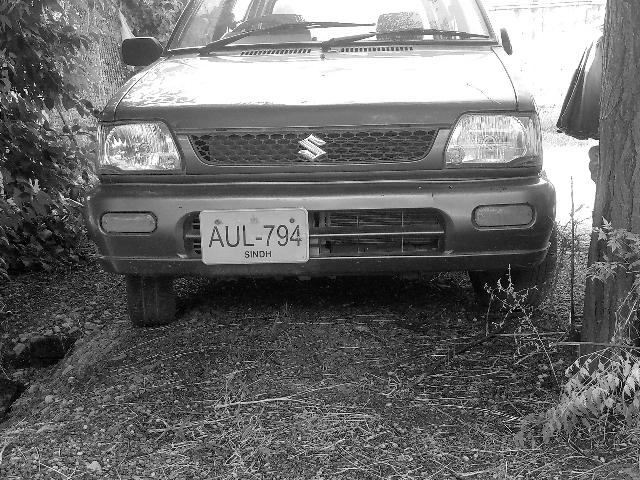Number: (200, 224, 306, 248)
